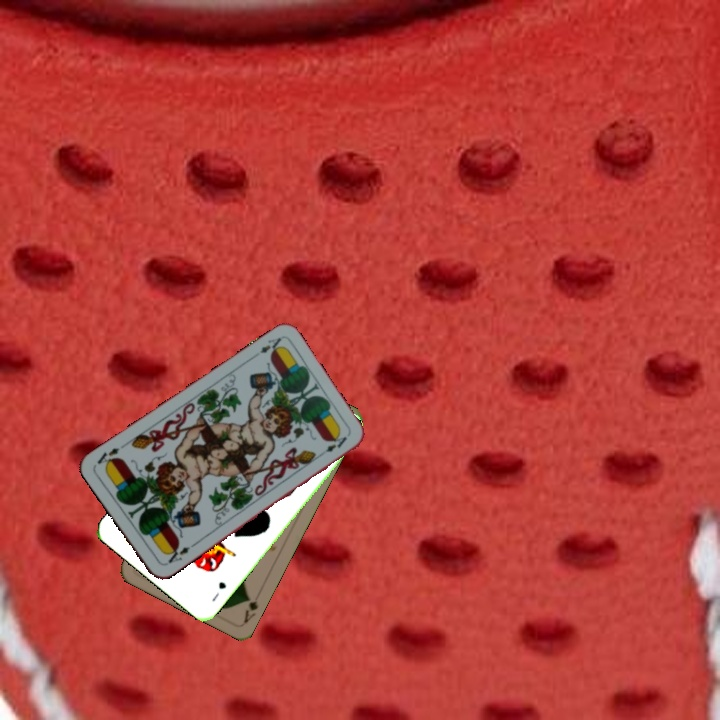EA: (248, 333, 284, 361), (161, 542, 193, 568)
GA: (240, 593, 260, 625)
GU: (208, 578, 229, 604)
